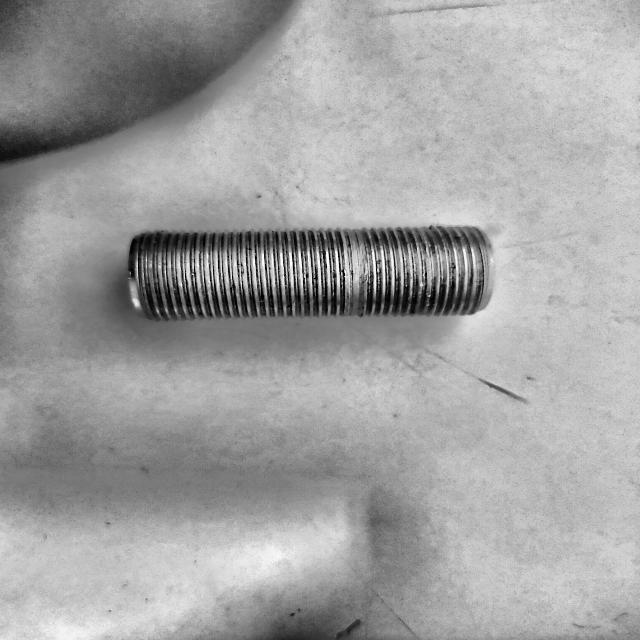Broken: (129, 224, 494, 324)
